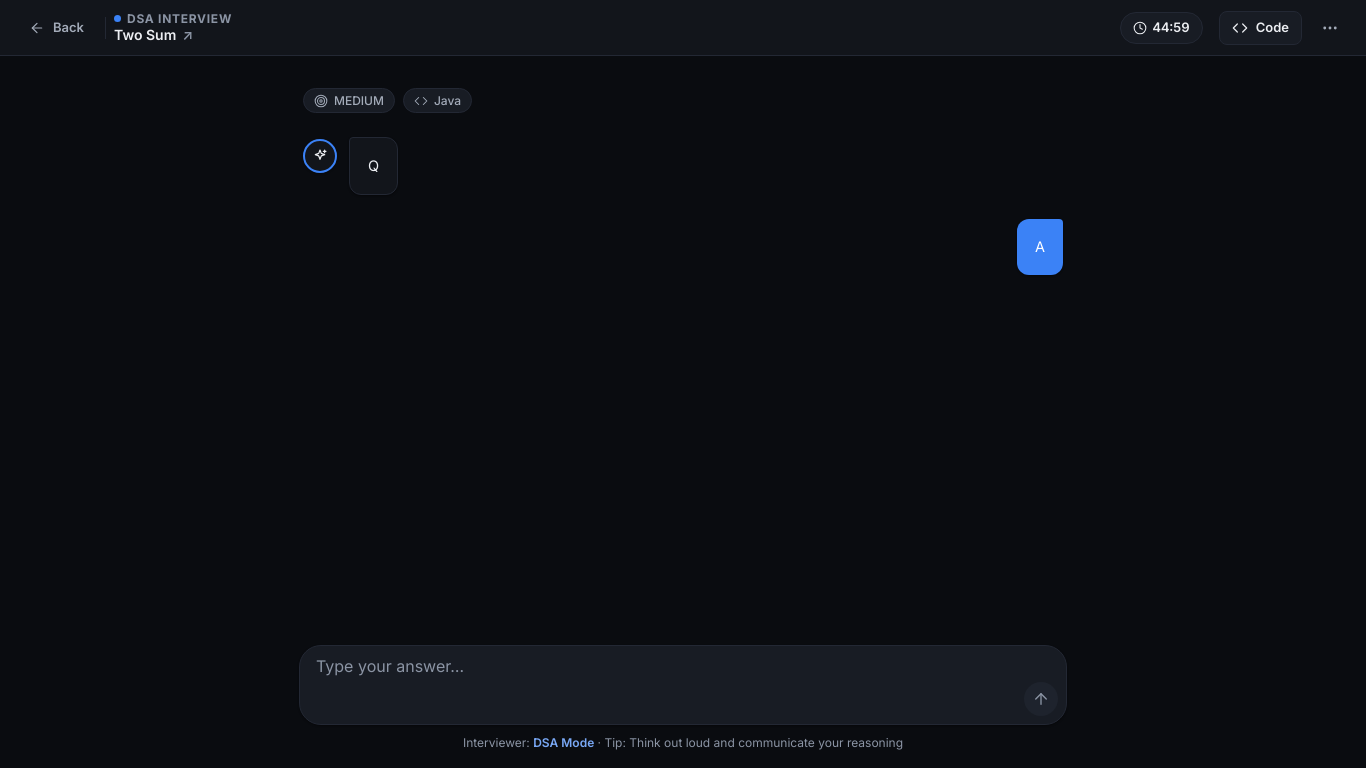
Test case: leaving and switching interviews › asks before leaving an answered interview; Keep going changes nothing
This screenshot has width=1366, height=768.
Check: the text "Q" is shown, box [368,154,379,178]
Click the button named "More actions".
click(1330, 28)  # box [1310,8,1350,48]
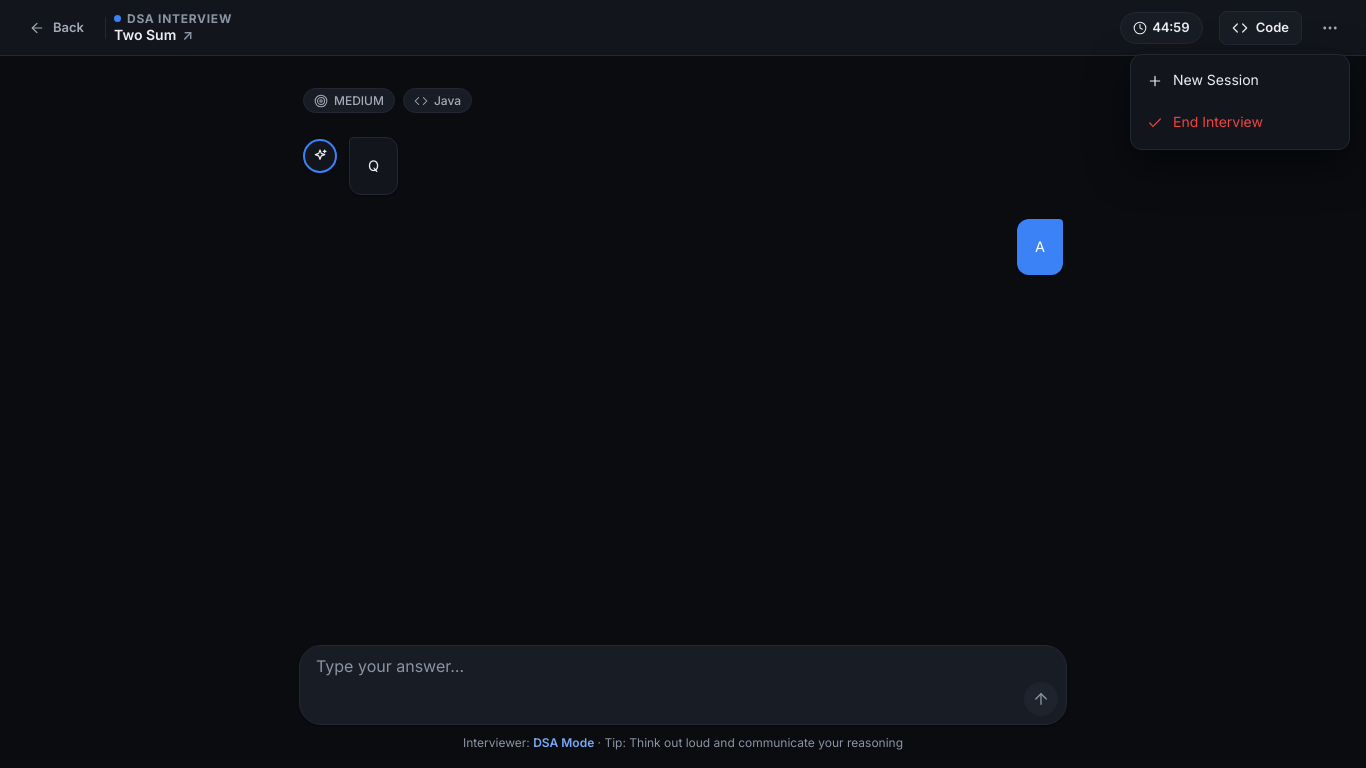
Click the button "New Session".
click(1240, 80)  # box [1137,60,1343,100]
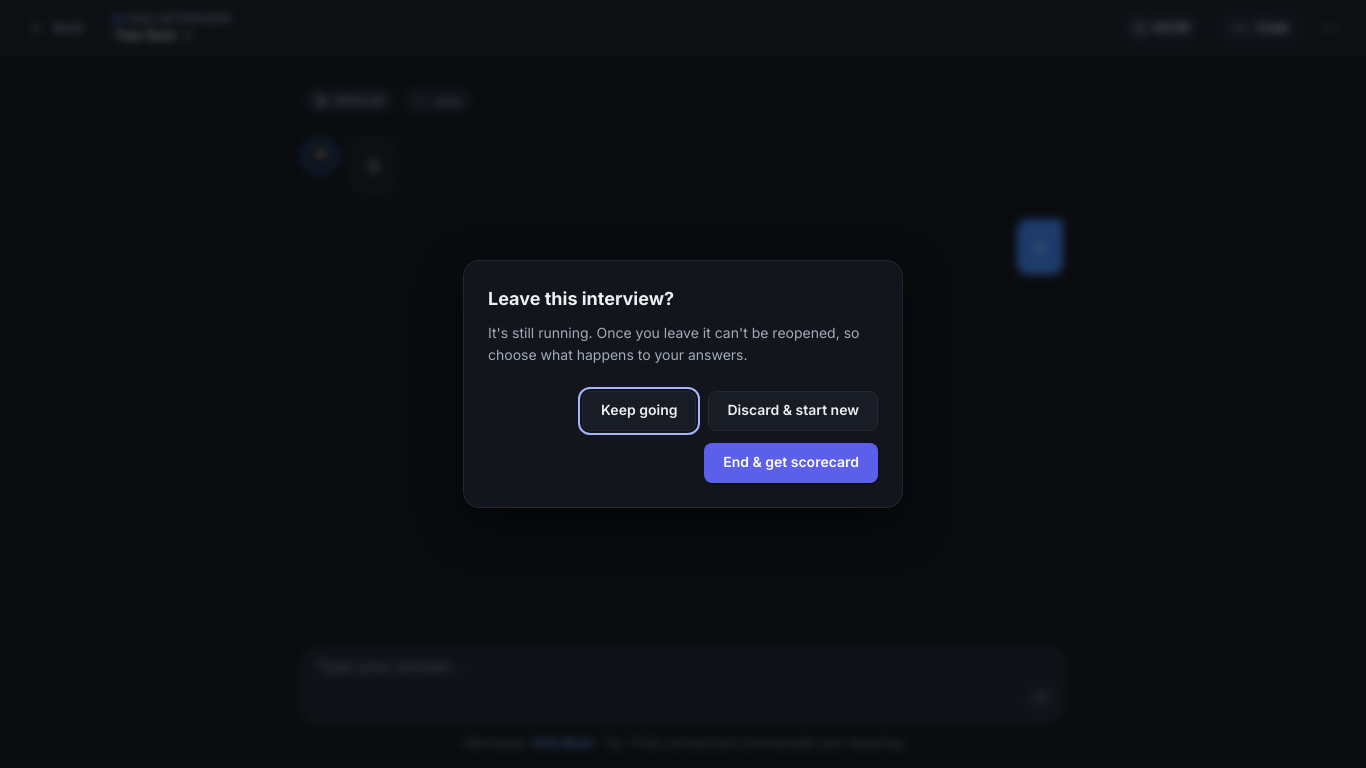
Check: the heading "Leave this interview?" is shown, box [488,288,674,309]
Click the button "Keep going".
click(639, 411)  # box [582,391,696,431]
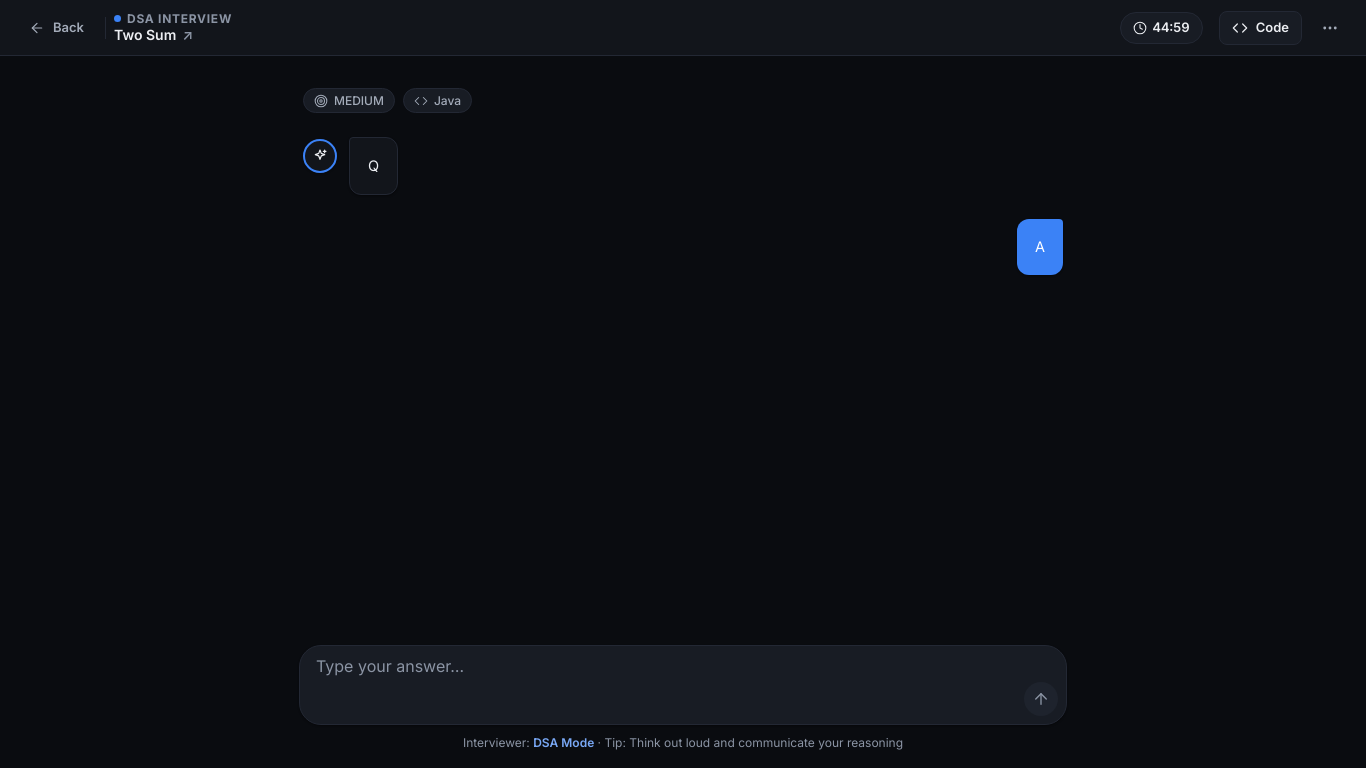
Check: the heading "Leave this interview?" is gone
